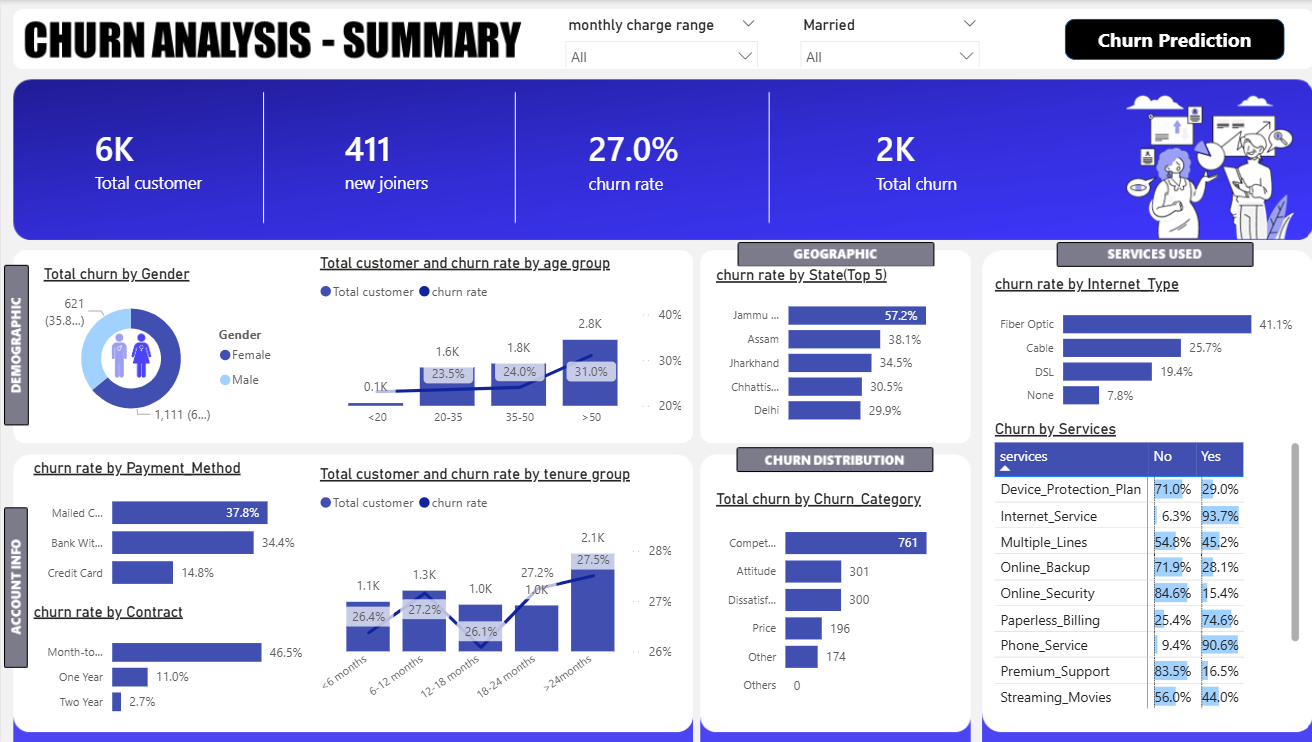

What the dashboard file says about the page in this screenshot:
{"tool":"powerbi","page":{"name":"summary","canvas":[1280,720],"ordinal":0},"visuals":[{"type":"image","box":[85.7,314.9,80.8,55.5],"z":0},{"type":"cardVisual","fields":{"Data":["tbl_measures.Total customer"]},"box":[61.5,82,235.3,144.8],"z":1000},{"type":"cardVisual","fields":{"Data":["tbl_measures.new joiners"]},"box":[302.8,82,231.6,144.8],"z":2000},{"type":"cardVisual","fields":{"Data":["tbl_measures.churn rate"]},"box":[538.1,94.1,202.7,120.6],"z":3000},{"type":"cardVisual","fields":{"Data":["tbl_measures.Total churn"]},"box":[815.6,105,230.4,98.9],"z":4000},{"type":"donutChart","fields":{"Category":["prod_Churn.Gender"],"Y":["tbl_measures.Total churn"]},"box":[36.2,255.8,240.1,164.1],"z":5000},{"type":"lineStackedColumnComboChart","fields":{"Category":["mapping_agregrp.age group"],"Y":["tbl_measures.Total customer"],"Y2":["tbl_measures.churn rate"]},"box":[302.8,244.9,358.3,174.9],"z":6000},{"type":"clusteredBarChart","fields":{"Category":["prod_Churn.Payment_Method"],"Y":["tbl_measures.churn rate"]},"box":[26.5,442.8,270.2,138.7],"z":7000},{"type":"clusteredBarChart","fields":{"Category":["prod_Churn.Contract"],"Y":["tbl_measures.churn rate"]},"box":[26.5,581.5,270.2,120.6],"z":8000},{"type":"lineStackedColumnComboChart","fields":{"Category":["mapping_tenuregrp.tenure group"],"Y":["tbl_measures.Total customer"],"Y2":["tbl_measures.churn rate"]},"box":[302.8,448.8,348.7,240.1],"z":9000},{"type":"clusteredBarChart","title":"churn rate by State(Top 5)","fields":{"Category":["prod_Churn.State"],"Y":["tbl_measures.churn rate"]},"box":[685.3,257,246.1,162.9],"z":10000},{"type":"clusteredBarChart","fields":{"Y":["tbl_measures.Total churn"],"Category":["prod_Churn.Churn_Category"]},"box":[685.3,472.9,237.7,216],"z":11000},{"type":"clusteredBarChart","fields":{"Category":["prod_Churn.Internet_Type"],"Y":["tbl_measures.churn rate"]},"box":[954.3,265.4,304,139.9],"z":12000},{"type":"pivotTable","title":"Churn by Services","fields":{"Rows":["prod_services.services"],"Values":["Sum(prod_services.churn_status)"],"Columns":["prod_services.status"]},"box":[954.3,405.4,304,283.5],"z":13000},{"type":"slicer","fields":{"Values":["prod_services.monthly charge status "]},"box":[534.5,10.9,206.3,54.3],"z":14000},{"type":"slicer","fields":{"Values":["prod_Churn.Married"]},"box":[761.3,10.9,193,54.3],"z":15000},{"type":"shape","box":[1026.7,18.1,212.3,39.8],"z":16000}]}

Visuals, with their boxes in screenshot pixels (x1, y1, x2, y2), scaled from the page's 1280x720 canvas onto the 1312x742 screenshot:
image: crop(88, 325, 171, 382)
cardVisual - tbl_measures.Total customer: crop(63, 85, 304, 234)
cardVisual - tbl_measures.new joiners: crop(310, 85, 548, 234)
cardVisual - tbl_measures.churn rate: crop(552, 97, 759, 221)
cardVisual - tbl_measures.Total churn: crop(836, 108, 1072, 210)
donutChart - prod_Churn.Gender x tbl_measures.Total churn: crop(37, 264, 283, 433)
lineStackedColumnComboChart - mapping_agregrp.age group x tbl_measures.Total customer: crop(310, 252, 678, 433)
clusteredBarChart - prod_Churn.Payment_Method x tbl_measures.churn rate: crop(27, 456, 304, 599)
clusteredBarChart - prod_Churn.Contract x tbl_measures.churn rate: crop(27, 599, 304, 724)
lineStackedColumnComboChart - mapping_tenuregrp.tenure group x tbl_measures.Total customer: crop(310, 463, 668, 710)
"churn rate by State(Top 5)" clusteredBarChart: crop(702, 265, 955, 433)
clusteredBarChart - tbl_measures.Total churn x prod_Churn.Churn_Category: crop(702, 487, 946, 710)
clusteredBarChart - prod_Churn.Internet_Type x tbl_measures.churn rate: crop(978, 274, 1290, 418)
"Churn by Services" pivotTable: crop(978, 418, 1290, 710)
slicer - prod_services.monthly charge status : crop(548, 11, 759, 67)
slicer - prod_Churn.Married: crop(780, 11, 978, 67)
shape: crop(1052, 19, 1270, 60)
